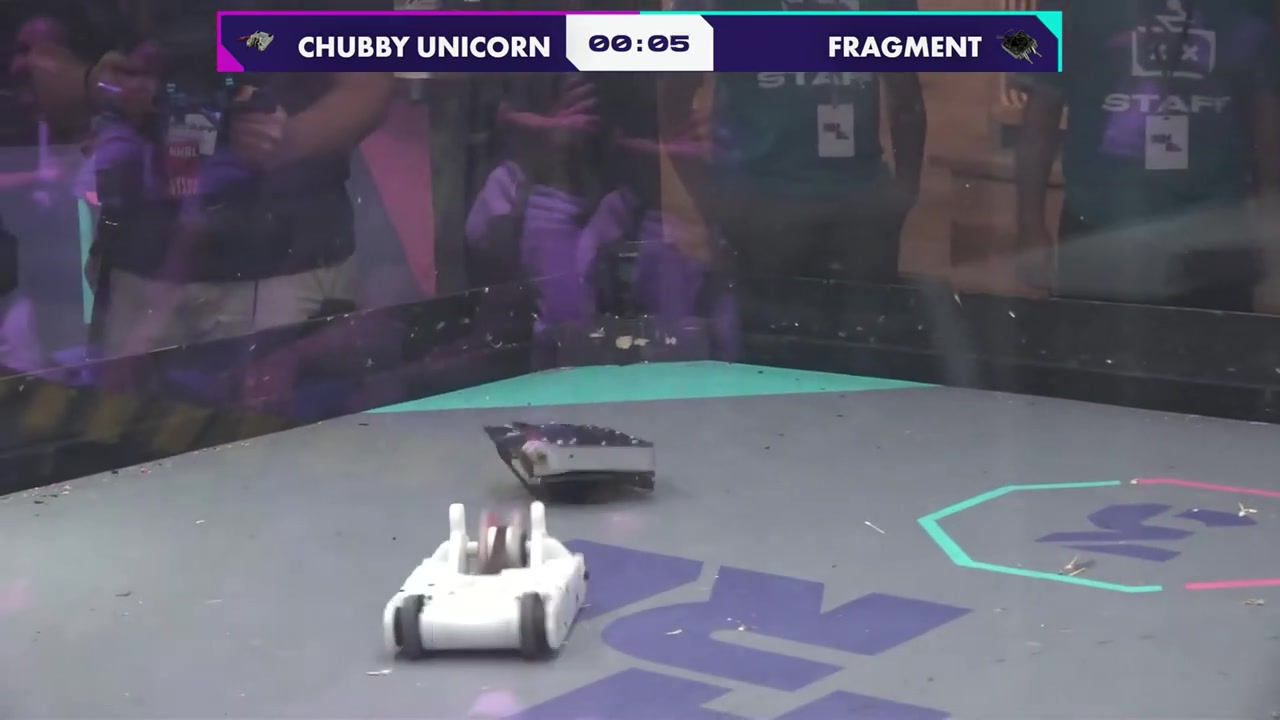combatbot: (382, 500, 591, 664), (480, 422, 659, 500)
